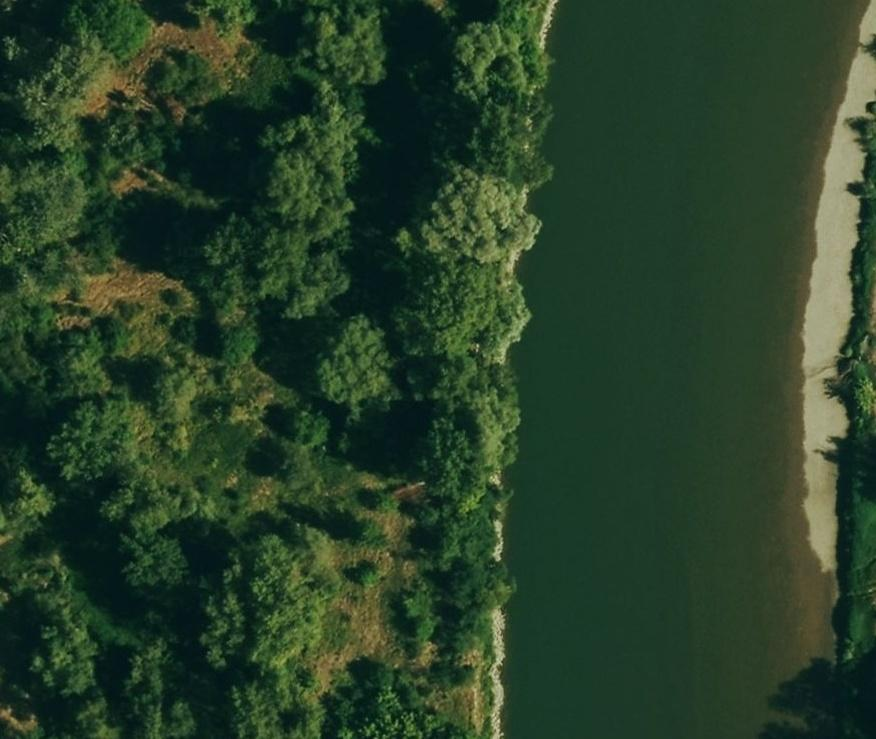forest: (0, 0, 549, 737)
lake: (505, 2, 866, 737)
